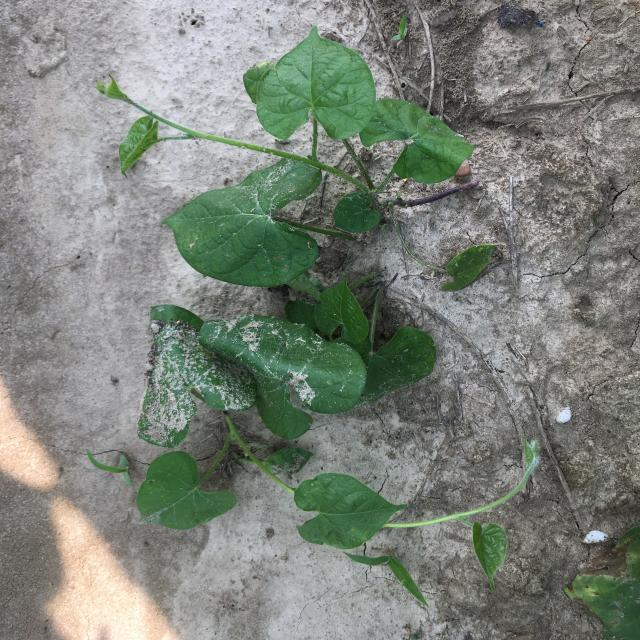MorningGlory: (135, 272, 541, 590), (96, 24, 498, 291)
